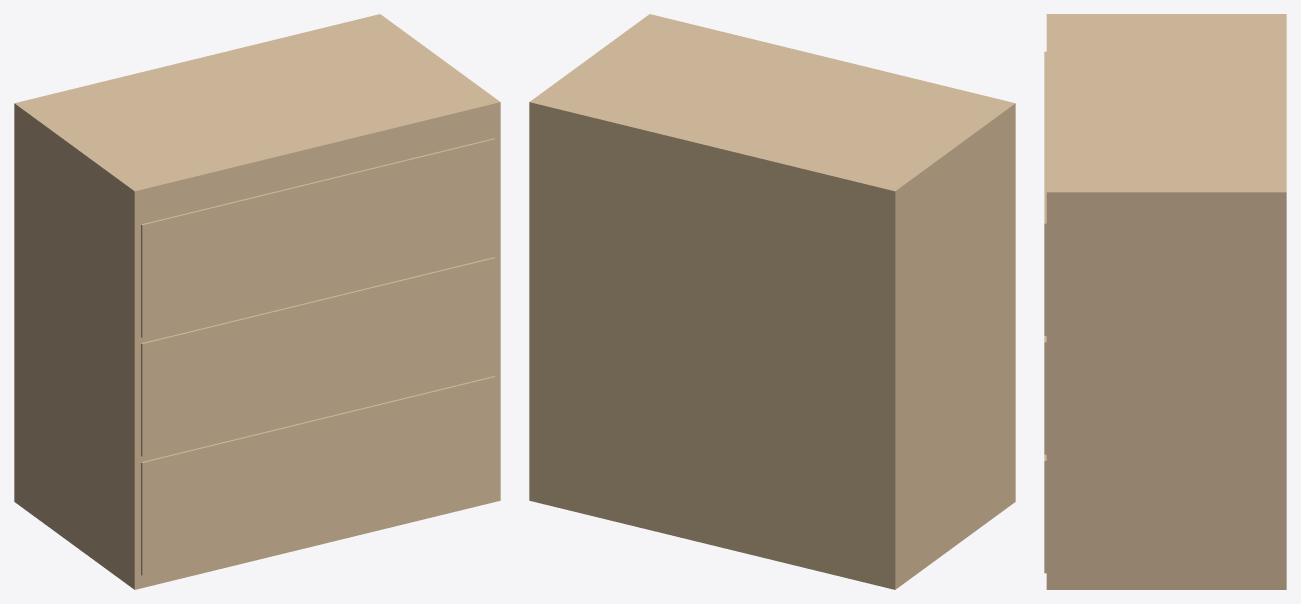
File: s-bed7-o05-0e3acd5f3f.glb
3 views of the same model, side by side, from view 1: azimuth 30°, elevation 25°; view 2: azimuth 150°, elevation 25°; view 3: azimuth 270°, elevation 25° (orthographic).
Visible parts, largest first — view 1: part-00, drawer-2, drawer-1, drawer-3; view 2: part-00; view 3: part-00, drawer-3, drawer-1, drawer-2.
Boxes of the visible parts, box(x1,y1,x2,y2) form: part-00: box(14, 14, 500, 589); drawer-2: box(141, 257, 495, 456); drawer-1: box(141, 376, 495, 575); drawer-3: box(141, 138, 495, 337); part-00: box(529, 14, 1015, 589); part-00: box(1046, 14, 1286, 589); drawer-3: box(1044, 51, 1046, 335); drawer-1: box(1044, 454, 1046, 573); drawer-2: box(1044, 336, 1046, 454).
Bounding box in the file's own units: 0.73 × 0.76 × 0.42.
